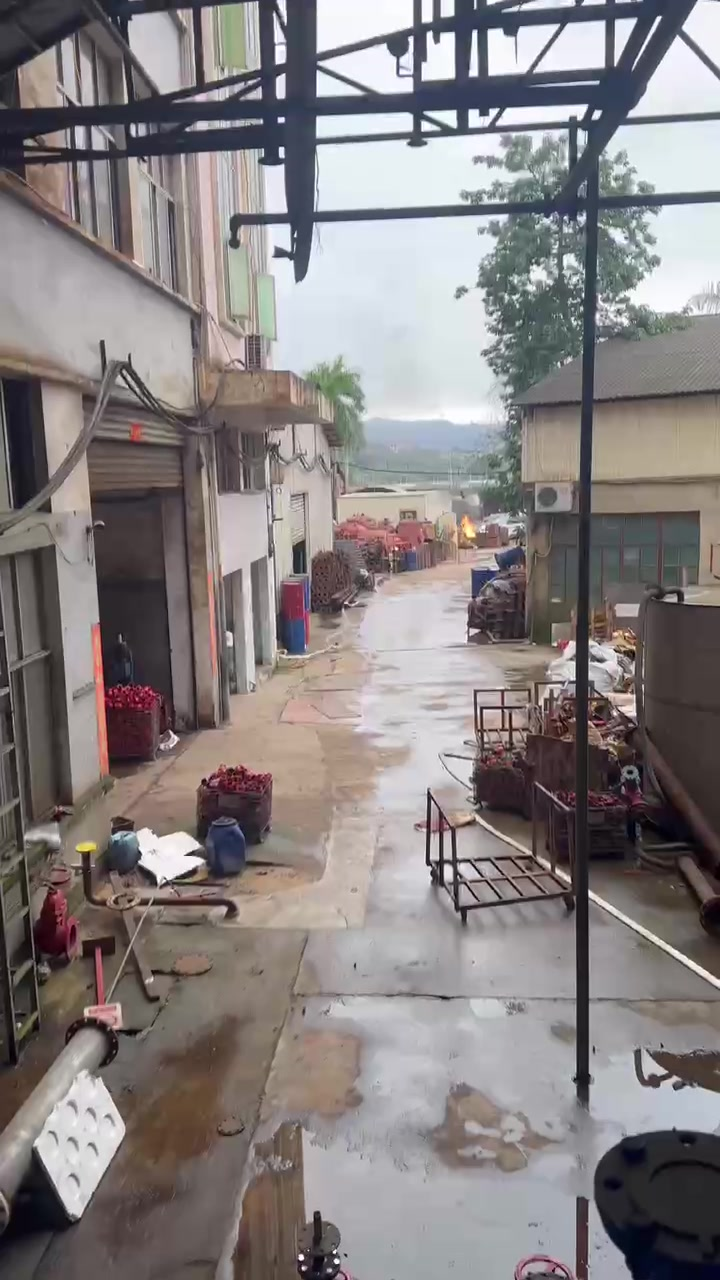fire: (461, 514, 475, 536)
